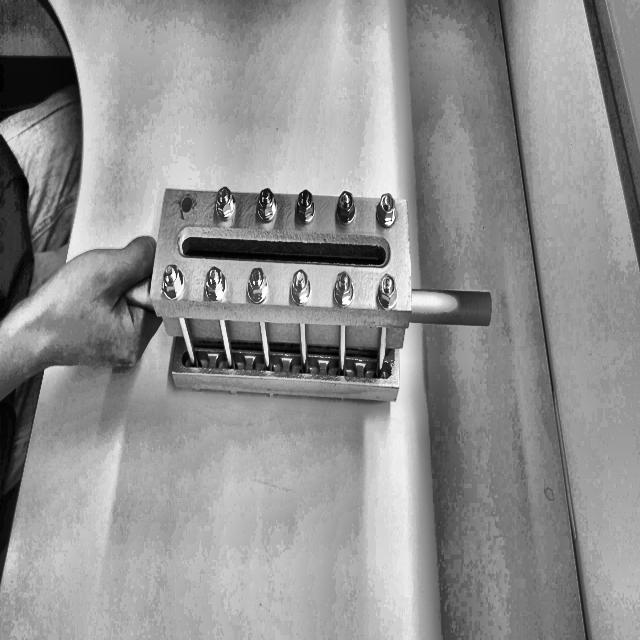ShuiWeiQi_11: (127, 116, 505, 431)
